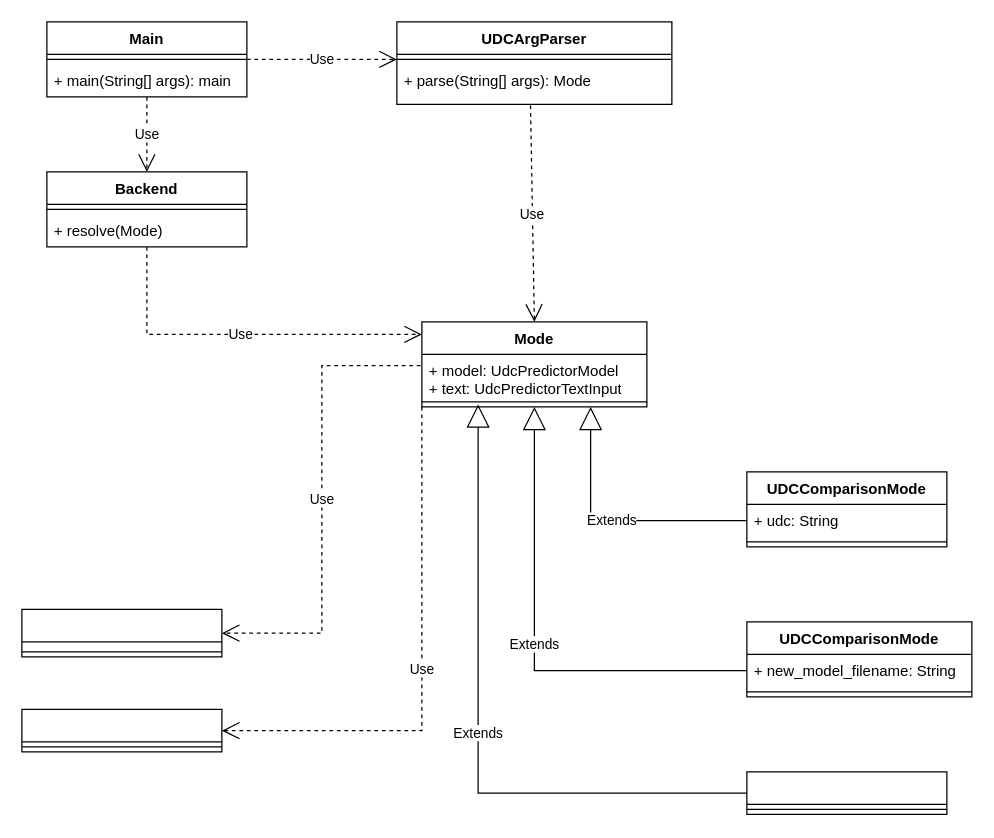
Some shapes in this 994 by 838 pixel diagram are drawn without their labels. Each missing label, with the centre of its shape:
"PredictionMode" belongs at point (846, 792).
"UdcPredictorModel" belongs at point (121, 730).
"UdcPredictorTextInput" belongs at point (121, 632).
